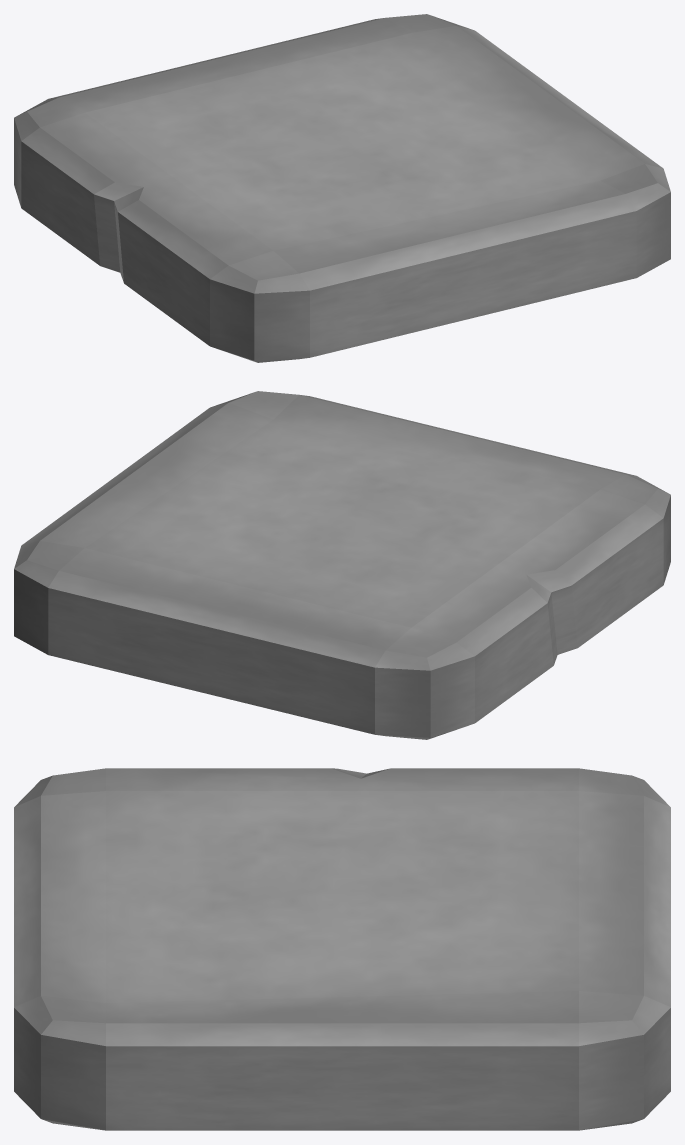
The model's file is SteppingStone-4.glb.
The picture shows the model from 3 angles, top to bottom: view 1: azimuth 30°, elevation 25°; view 2: azimuth 150°, elevation 25°; view 3: azimuth 270°, elevation 25°; orthographic projection. The views are drawn at different scales.
Visible parts, largest first — view 1: SteppingStone-4-col; view 2: SteppingStone-4-col; view 3: SteppingStone-4-col.
Boxes of the visible parts, x1,y1,x2,y2 form: SteppingStone-4-col: (14,14,670,362); SteppingStone-4-col: (14,391,670,739); SteppingStone-4-col: (14,768,670,1130).
Size of the model in its own units: 0.3357 by 0.066 by 0.3357.
Materials: 1 (1 with a texture image).
